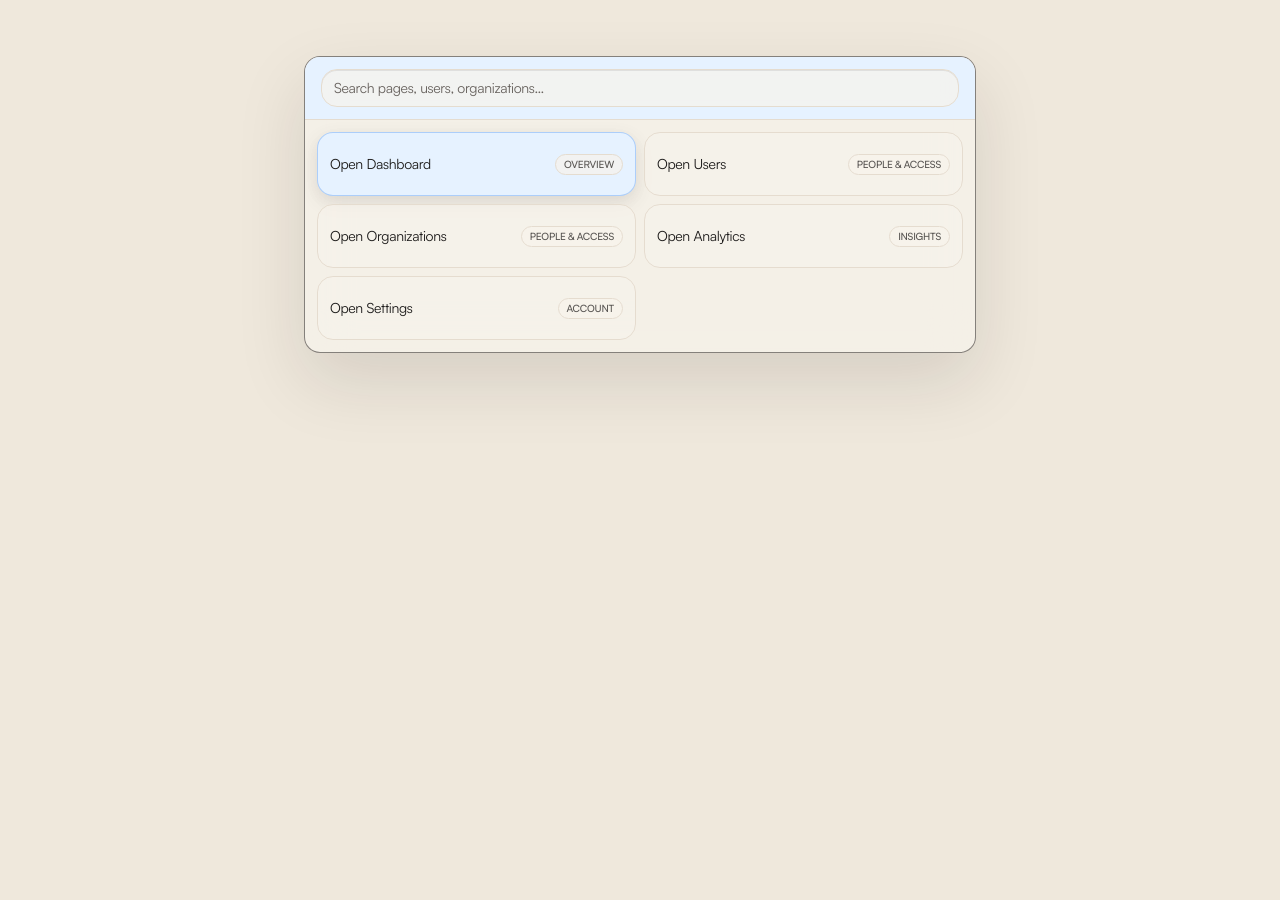
it: CommandPalette › shows empty state when no items match
Step 1. Type "qqqxxxnomatch" into the field named "command palette input" → (640, 88), box [334,78,946,98]
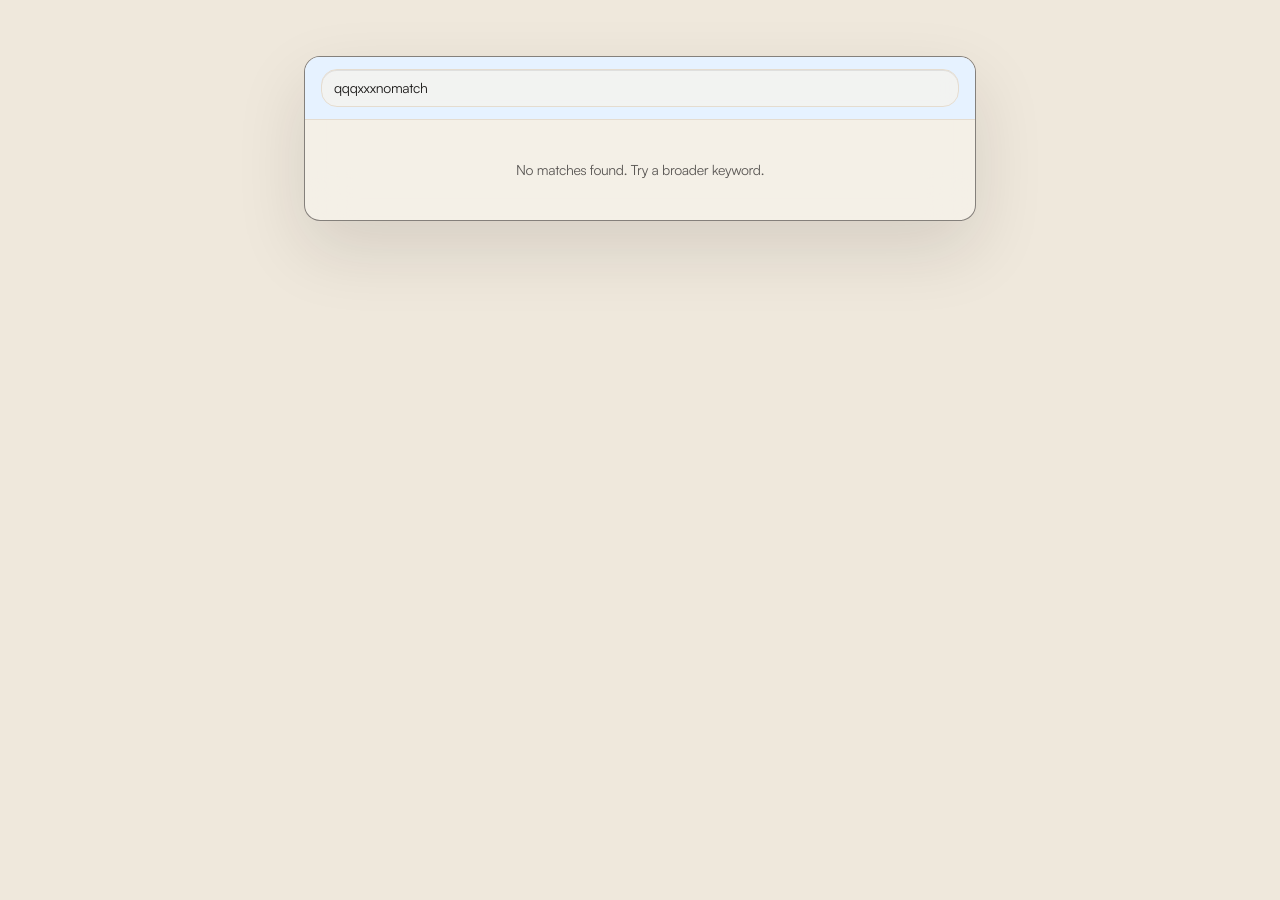
Expected: the text "No matches found. Try a broader keyword." is shown, [516,161,764,178]
